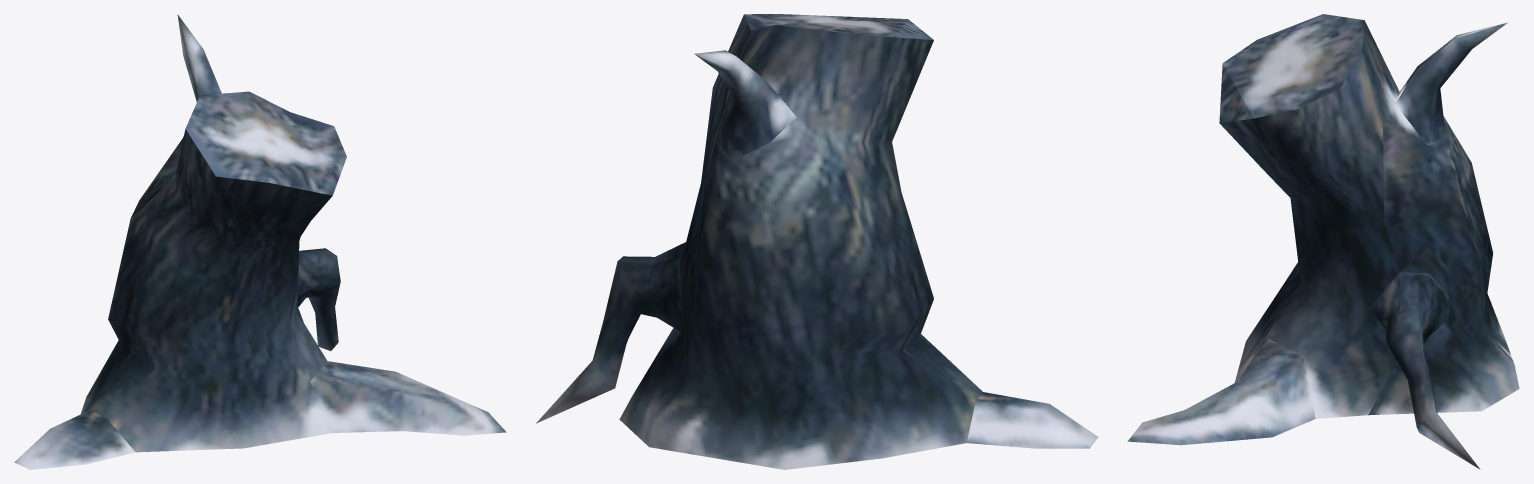
File: 3-1_shu4.FBX
The picture shows the model from 3 angles, left to right: view 1: azimuth 30°, elevation 25°; view 2: azimuth 150°, elevation 25°; view 3: azimuth 270°, elevation 25°; orthographic projection. The views are drawn at different scales.
Parts seen in each view (by area): view 1: 3-1_shu4; view 2: 3-1_shu4; view 3: 3-1_shu4.
Boxes of the visible parts, x1,y1,x2,y2 form: 3-1_shu4: (14,14,506,469); 3-1_shu4: (536,14,1098,469); 3-1_shu4: (1127,14,1519,469).
Bounding box in the file's own units: 488 × 408 × 389.
